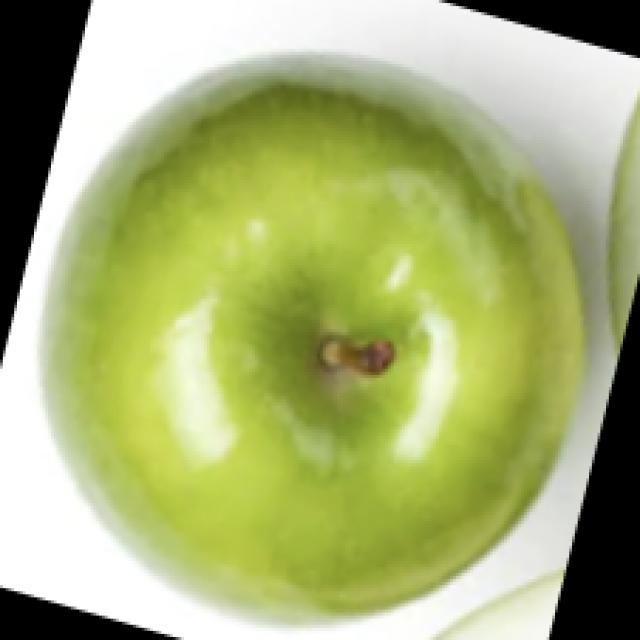Fresh Apple: (90, 102, 582, 610)
